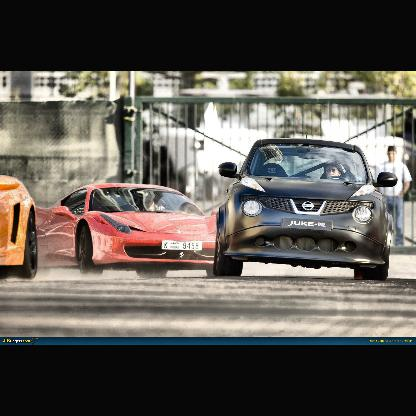Nissan Juke Hatchback 2012: (211, 136, 403, 283)
